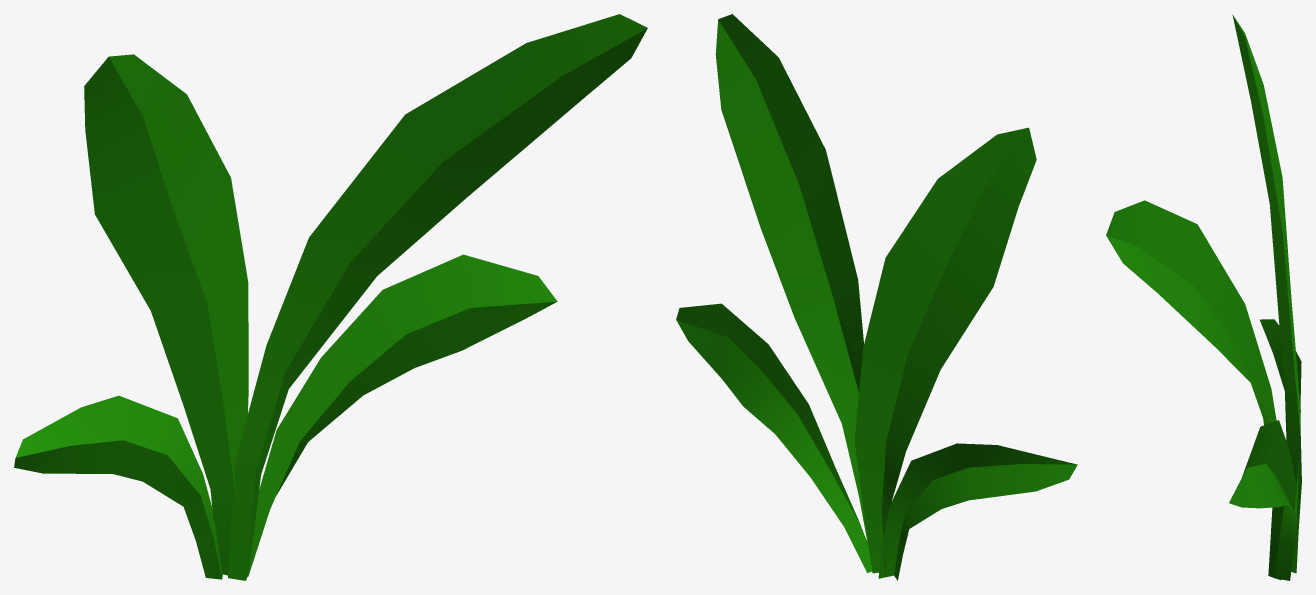
Rendered from Fat Grass Short 4.fbx.
The picture shows the model from 3 angles, left to right: view 1: azimuth 30°, elevation 25°; view 2: azimuth 150°, elevation 25°; view 3: azimuth 270°, elevation 25°; orthographic projection. The views are drawn at different scales.
Parts seen in each view (by area): view 1: Fat_Grass_Short_4; view 2: Fat_Grass_Short_4; view 3: Fat_Grass_Short_4.
Part boxes in pixels (x1,y1,x2,y2): Fat_Grass_Short_4: (14, 14, 647, 580); Fat_Grass_Short_4: (676, 14, 1077, 580); Fat_Grass_Short_4: (1106, 14, 1301, 580).
Size of the model in its own units: 0.412 by 0.4195 by 0.1503.
